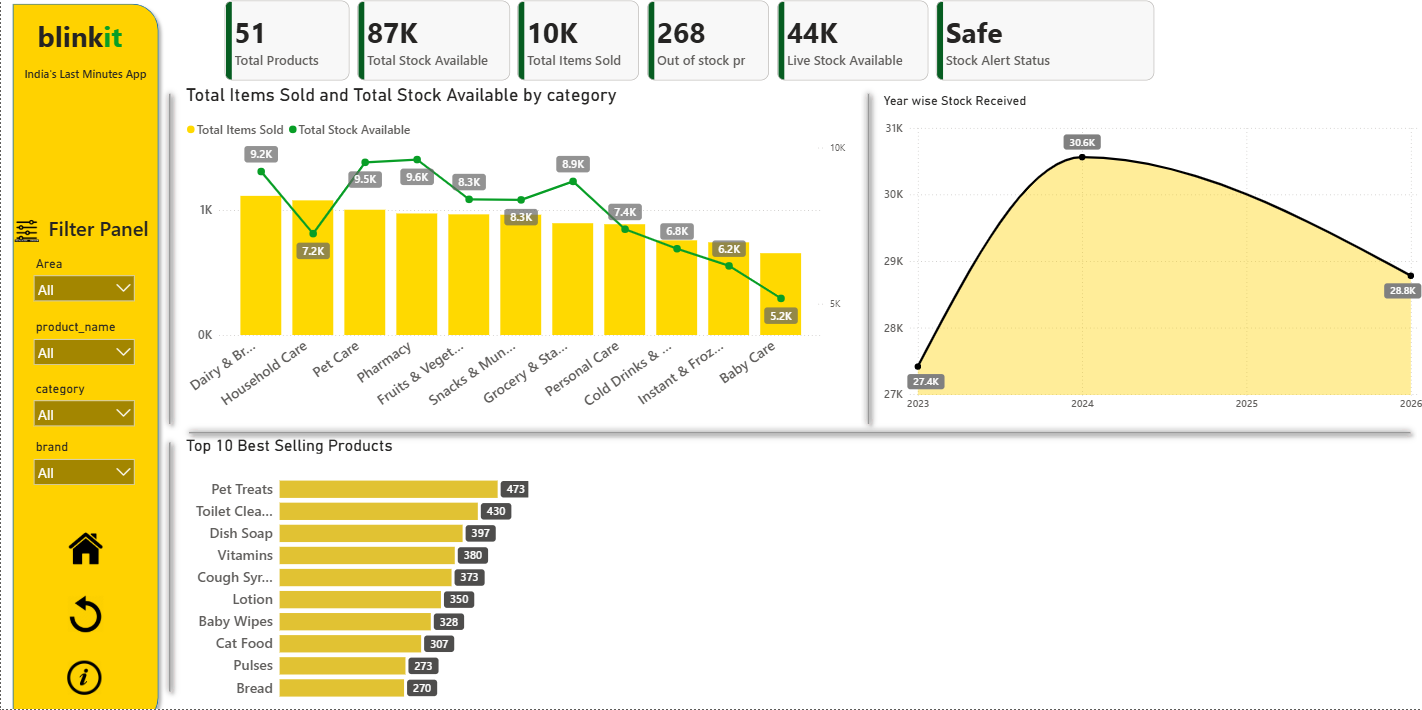

Layout of this report page (visuals, bound fields, positions):
{"tool":"powerbi","page":{"name":"Product & Inventory","canvas":[1900,950],"ordinal":3},"visuals":[{"type":"cardVisual","fields":{"Data":["All Measures.Total Stock Available"]},"box":[470,0,214.1,116.6],"z":0},{"type":"cardVisual","fields":{"Data":["All Measures.Live Stock Available"]},"box":[1030,0,211.7,116.7],"z":1000},{"type":"cardVisual","fields":{"Data":["All Measures.Total Items Sold"]},"box":[683.3,0,172.9,116.6],"z":2000},{"type":"cardVisual","fields":{"Data":["All Measures.Out of stock pr"]},"box":[856.7,0,172.9,116.6],"z":3000},{"type":"cardVisual","fields":{"Data":["All Measures.Stock Alert Status"]},"box":[1241.7,0,301.7,116.7],"z":4000},{"type":"cardVisual","fields":{"Data":["All Measures.Total Products"]},"box":[293.3,0,176.7,116.7],"z":5000},{"type":"clusteredBarChart","title":"Top 10 Best Selling Products","fields":{"Category":["blinkit_products.product_name"],"Y":["All Measures.Total Items Sold"]},"box":[241.7,585,466.7,365],"z":6000},{"type":"lineChart","title":"Year wise Stock Received","fields":{"Category":["blinkit_inventory.Year"],"Y":["Sum(blinkit_inventory.stock_received)"]},"box":[1171.7,128.3,728.3,433.3],"z":7000},{"type":"lineClusteredColumnComboChart","fields":{"Category":["blinkit_products.category"],"Y":["All Measures.Total Items Sold"],"Y2":["All Measures.Total Stock Available"]},"box":[241.7,116.7,895,445],"z":8000},{"type":"shape","box":[6.7,0,212.3,978.3],"z":9000},{"type":"image","box":[75.6,697.6,75.6,73.8],"z":10000},{"type":"image","box":[88.3,794.3,49.2,54.8],"z":11000},{"type":"image","box":[88.3,880.4,45.4,54.8],"z":12000},{"type":"image","box":[18.3,281.7,31.7,58.3],"z":13000},{"type":"slicer","fields":{"Values":["blinkit_customers.area"]},"box":[33.3,340,155,85],"z":14000},{"type":"slicer","fields":{"Values":["blinkit_products.product_name"]},"box":[33.3,425,155,85],"z":15000},{"type":"slicer","fields":{"Values":["blinkit_products.category"]},"box":[33.3,506.7,155,78.3],"z":16000},{"type":"slicer","fields":{"Values":["blinkit_products.brand"]},"box":[33.3,585,155,83.3],"z":17000},{"type":"textbox","box":[50,285,160,55],"z":18000},{"type":"textbox","box":[35,21.7,140,71.7],"z":19000},{"type":"textbox","box":[21.7,86.7,181.7,30],"z":20000},{"type":"shape","box":[241.7,561.7,1646.7,38.3],"z":21000},{"type":"shape","box":[1141.7,120,30,458.3],"z":22000},{"type":"shape","box":[210,120,30,458.3],"z":23000},{"type":"shape","box":[206.7,585,36.7,350],"z":24000}]}

Visuals, with their boxes in screenshot pixels (x1, y1, x2, y2), scaled from the page's 1900x950 canvas onto the 1422x710 screenshot:
cardVisual - All Measures.Total Stock Available: bbox=(352, 0, 512, 87)
cardVisual - All Measures.Live Stock Available: bbox=(771, 0, 929, 87)
cardVisual - All Measures.Total Items Sold: bbox=(511, 0, 641, 87)
cardVisual - All Measures.Out of stock pr: bbox=(641, 0, 771, 87)
cardVisual - All Measures.Stock Alert Status: bbox=(929, 0, 1155, 87)
cardVisual - All Measures.Total Products: bbox=(220, 0, 352, 87)
"Top 10 Best Selling Products" clusteredBarChart: bbox=(181, 437, 530, 709)
"Year wise Stock Received" lineChart: bbox=(877, 96, 1421, 420)
lineClusteredColumnComboChart - blinkit_products.category x All Measures.Total Items Sold: bbox=(181, 87, 851, 420)
shape: bbox=(5, 0, 164, 709)
image: bbox=(57, 521, 113, 577)
image: bbox=(66, 594, 103, 635)
image: bbox=(66, 658, 100, 699)
image: bbox=(14, 211, 37, 254)
slicer - blinkit_customers.area: bbox=(25, 254, 141, 318)
slicer - blinkit_products.product_name: bbox=(25, 318, 141, 381)
slicer - blinkit_products.category: bbox=(25, 379, 141, 437)
slicer - blinkit_products.brand: bbox=(25, 437, 141, 499)
textbox: bbox=(37, 213, 157, 254)
textbox: bbox=(26, 16, 131, 70)
textbox: bbox=(16, 65, 152, 87)
shape: bbox=(181, 420, 1413, 448)
shape: bbox=(854, 90, 877, 432)
shape: bbox=(157, 90, 180, 432)
shape: bbox=(155, 437, 182, 699)
